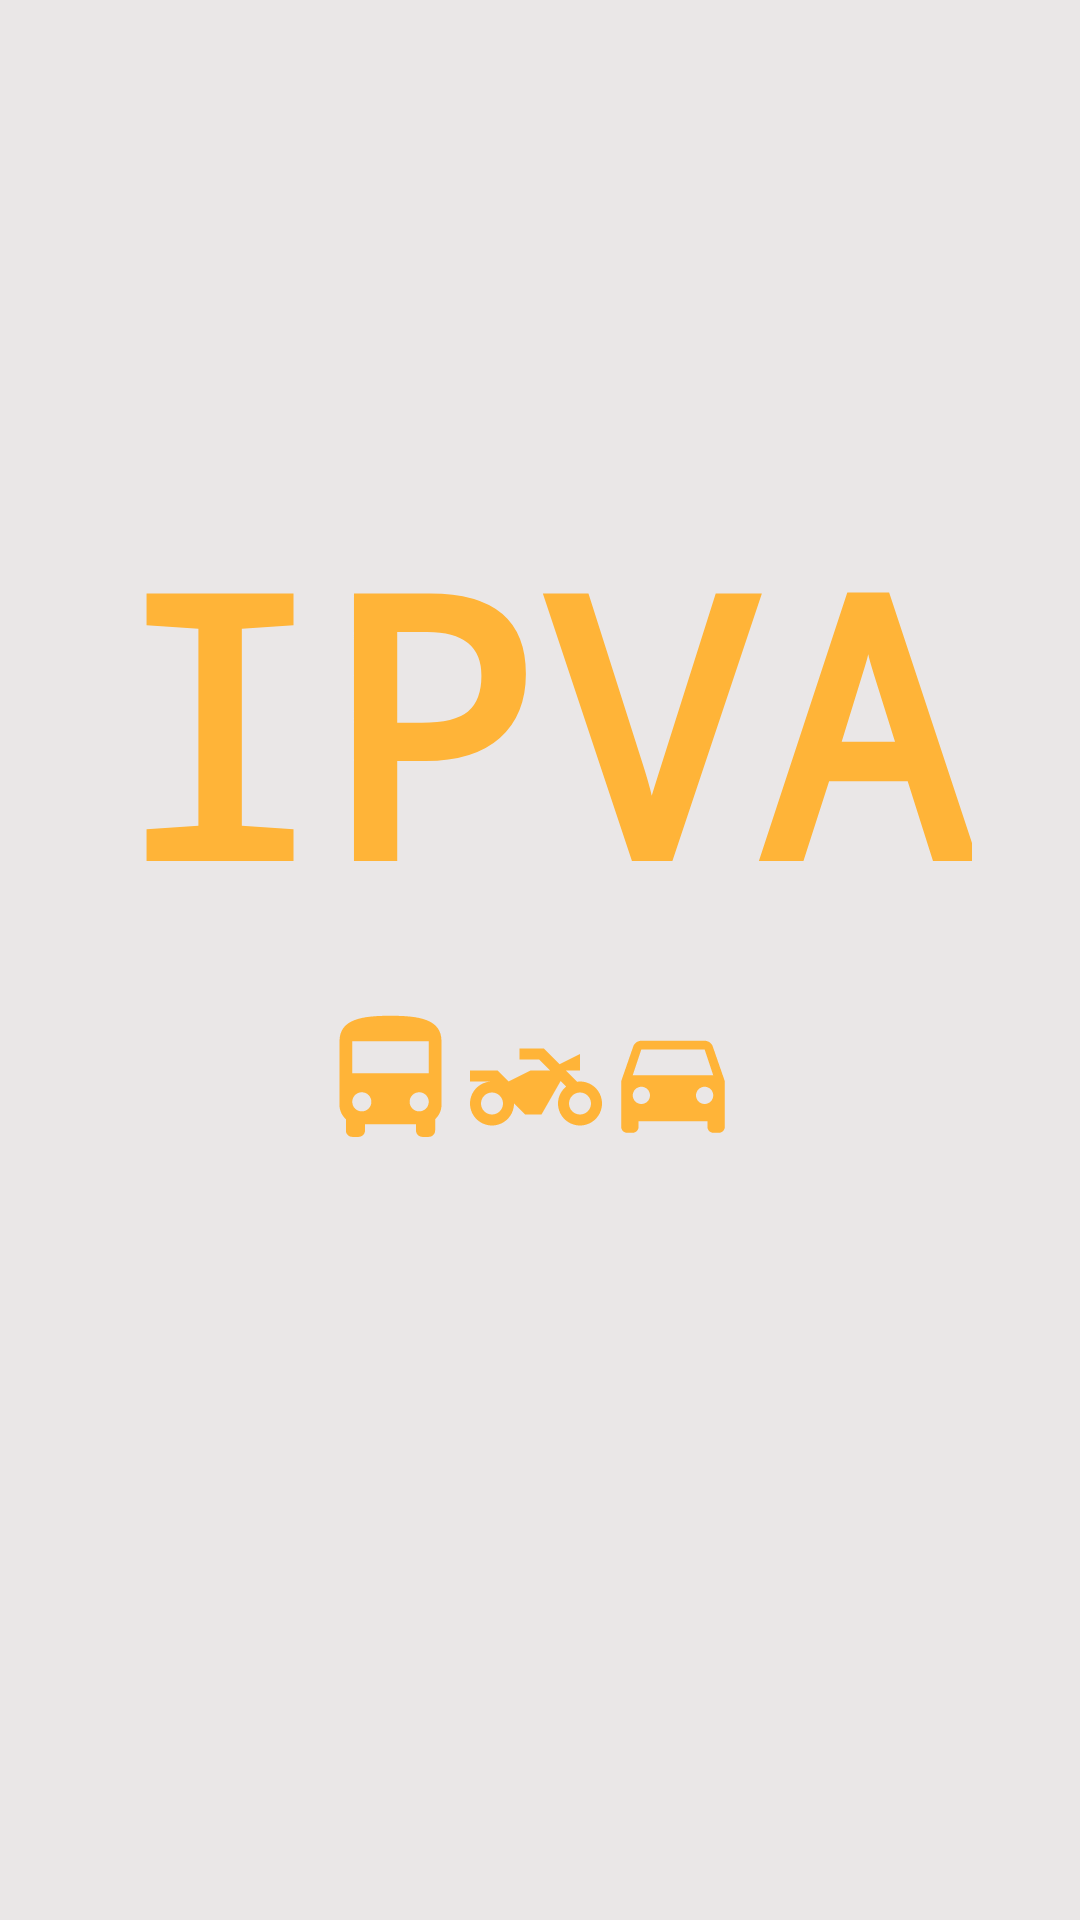

Icon click points for this 1080w x 1920h phone screenshot, format (x=x, y=y):
directions bus: (x=390, y=1076)
directions car: (x=673, y=1086)
two wheeler: (x=536, y=1087)
